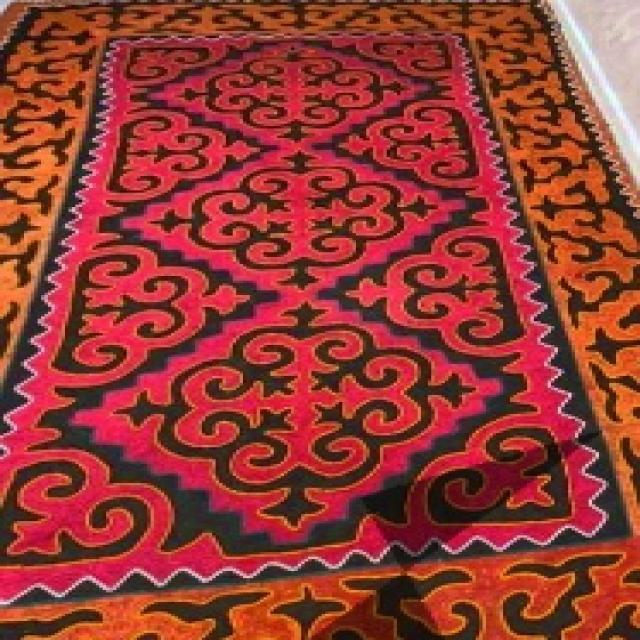Unity: (96, 299, 483, 534), (136, 146, 449, 296), (47, 227, 272, 404), (326, 208, 539, 384), (161, 41, 421, 146), (100, 100, 276, 234), (318, 80, 492, 202)
